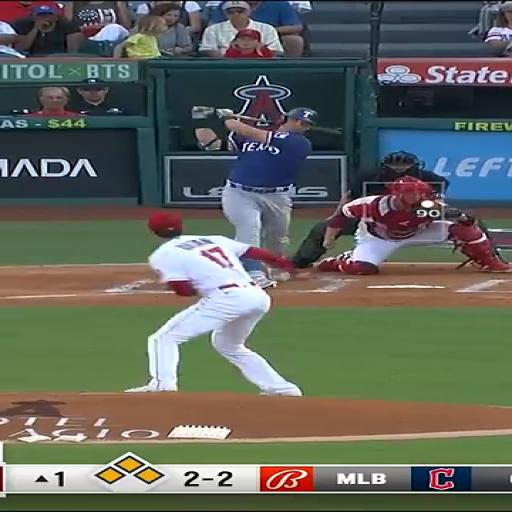bat: (311, 125, 341, 135)
